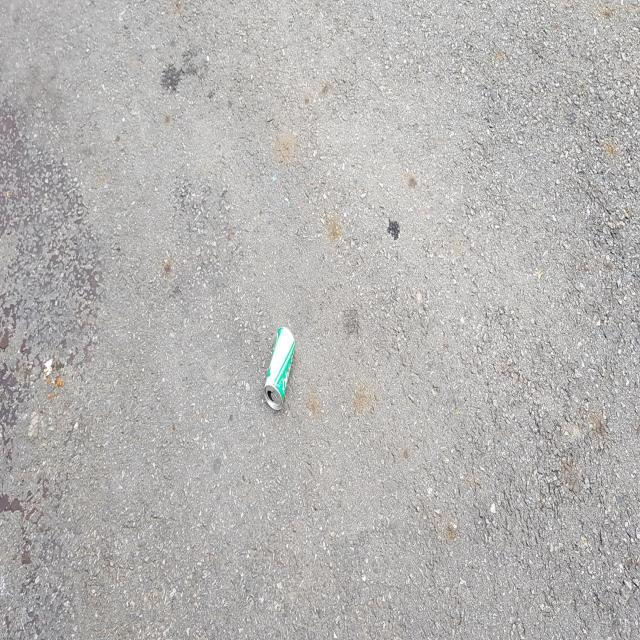can: (264, 326, 295, 410)
